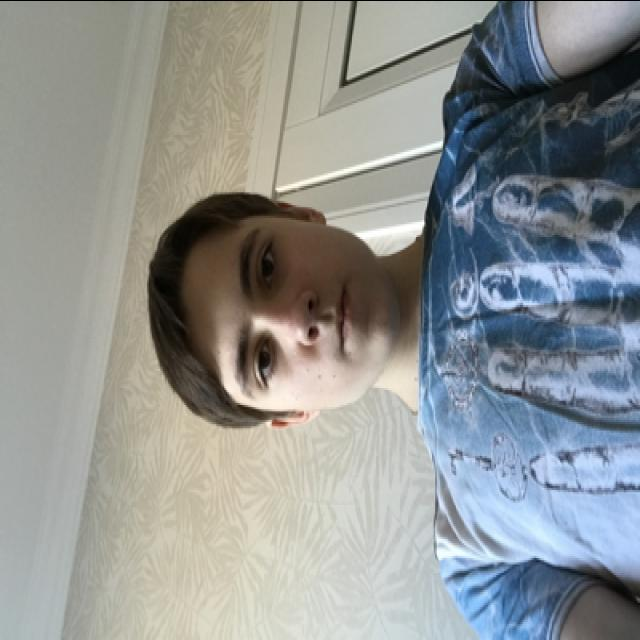no_mask: (224, 214, 398, 408)
